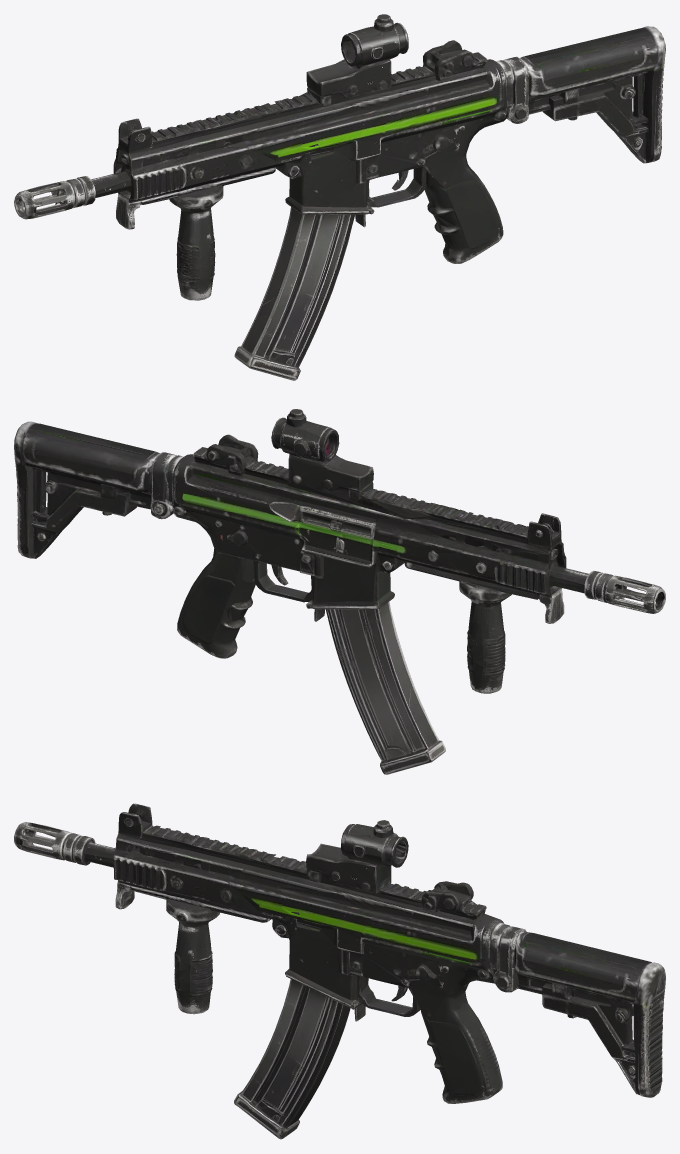
The model's file is gun_smg.glb.
3 views of the same model, one above another, from view 1: azimuth 30°, elevation 25°; view 2: azimuth 150°, elevation 25°; view 3: azimuth 330°, elevation 25° (orthographic).
Visible parts, largest first — view 1: Mesh_0; view 2: Mesh_0; view 3: Mesh_0.
Part boxes in pixels (x1=…): Mesh_0: x1=14, y1=14, x2=665, y2=380; Mesh_0: x1=14, y1=409, x2=665, y2=774; Mesh_0: x1=14, y1=803, x2=665, y2=1139.
Bounding box in the file's own units: 1.9 × 0.9523 × 0.1629.
1 material, 1 textured.
